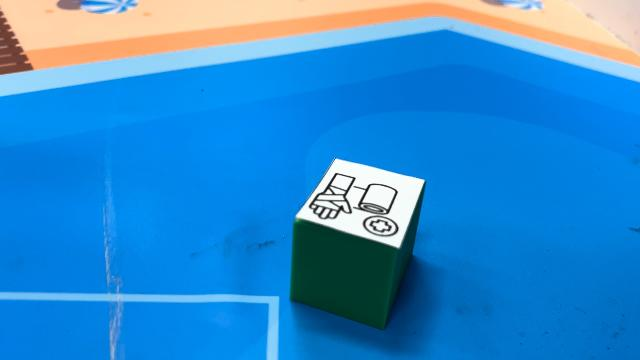bandage: (288, 156, 426, 330)
